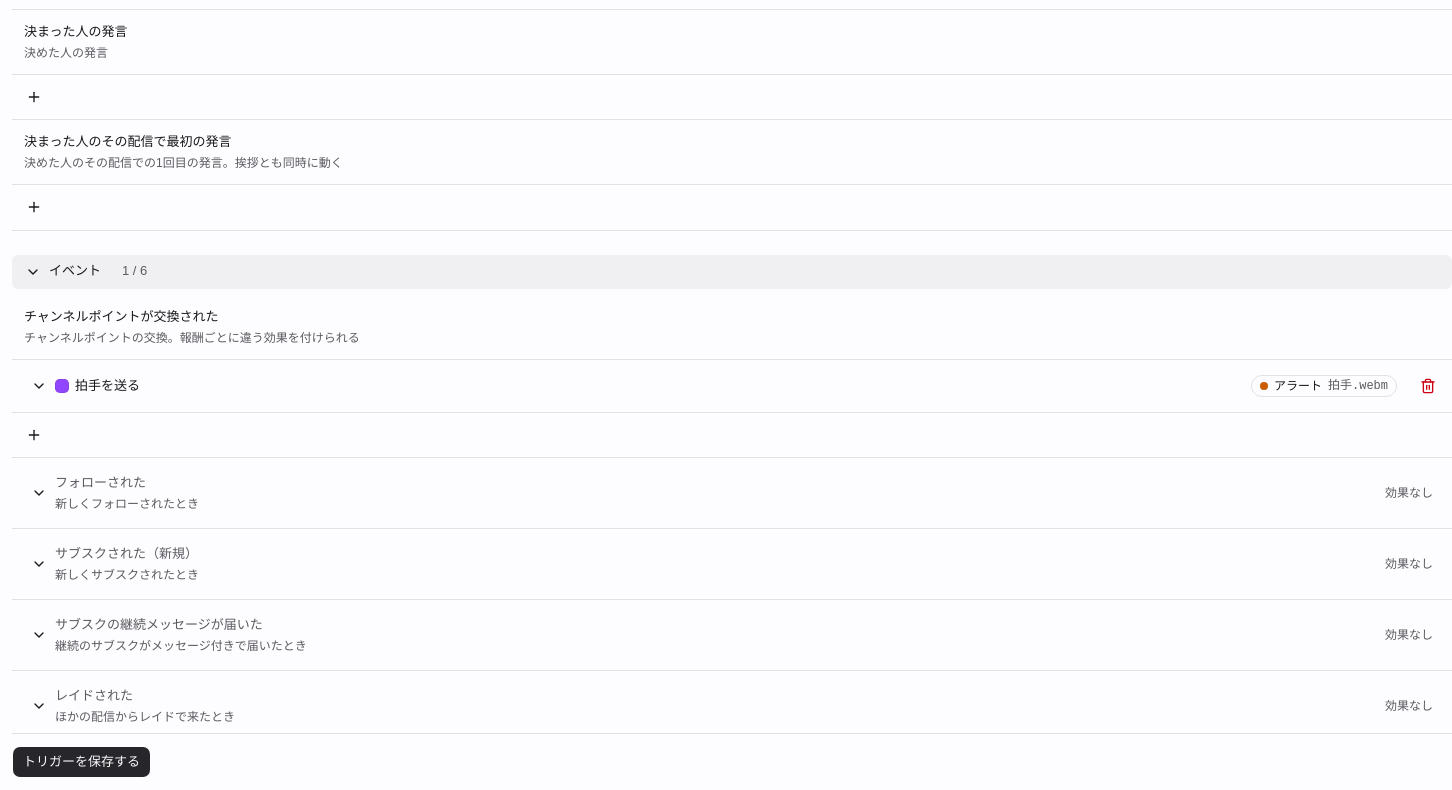
Scenario: 効果の付け外し › アラートを出すを外すと、素材や表示時間の入力欄を隠す
(page scrolled)
Click the button named "チャンネルポイントが交換されたの1番目の設定:".
click(170, 395)  # box [20,368,1408,404]
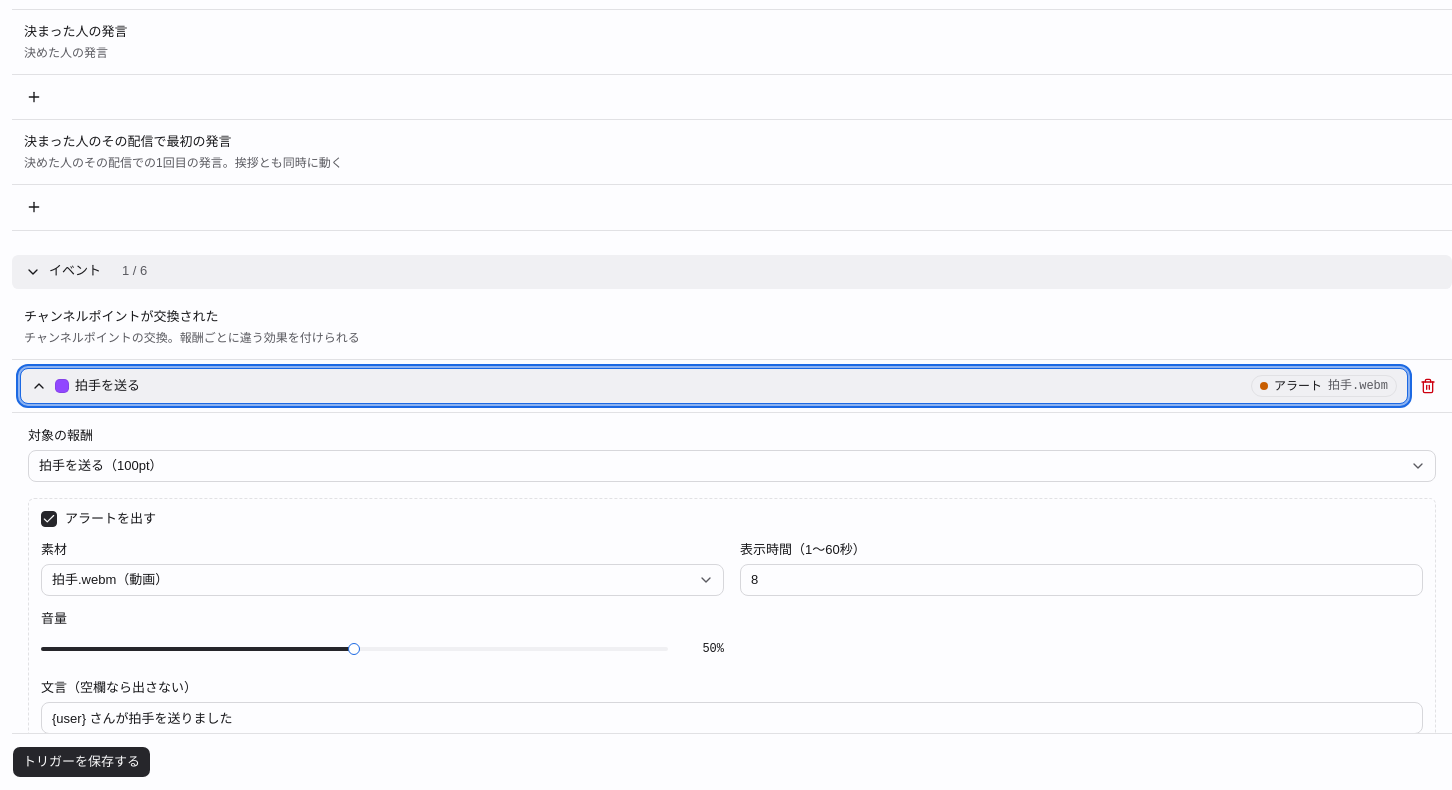
Click the checkbox named "アラートを出す".
click(49, 519)  # box [41,511,57,527]
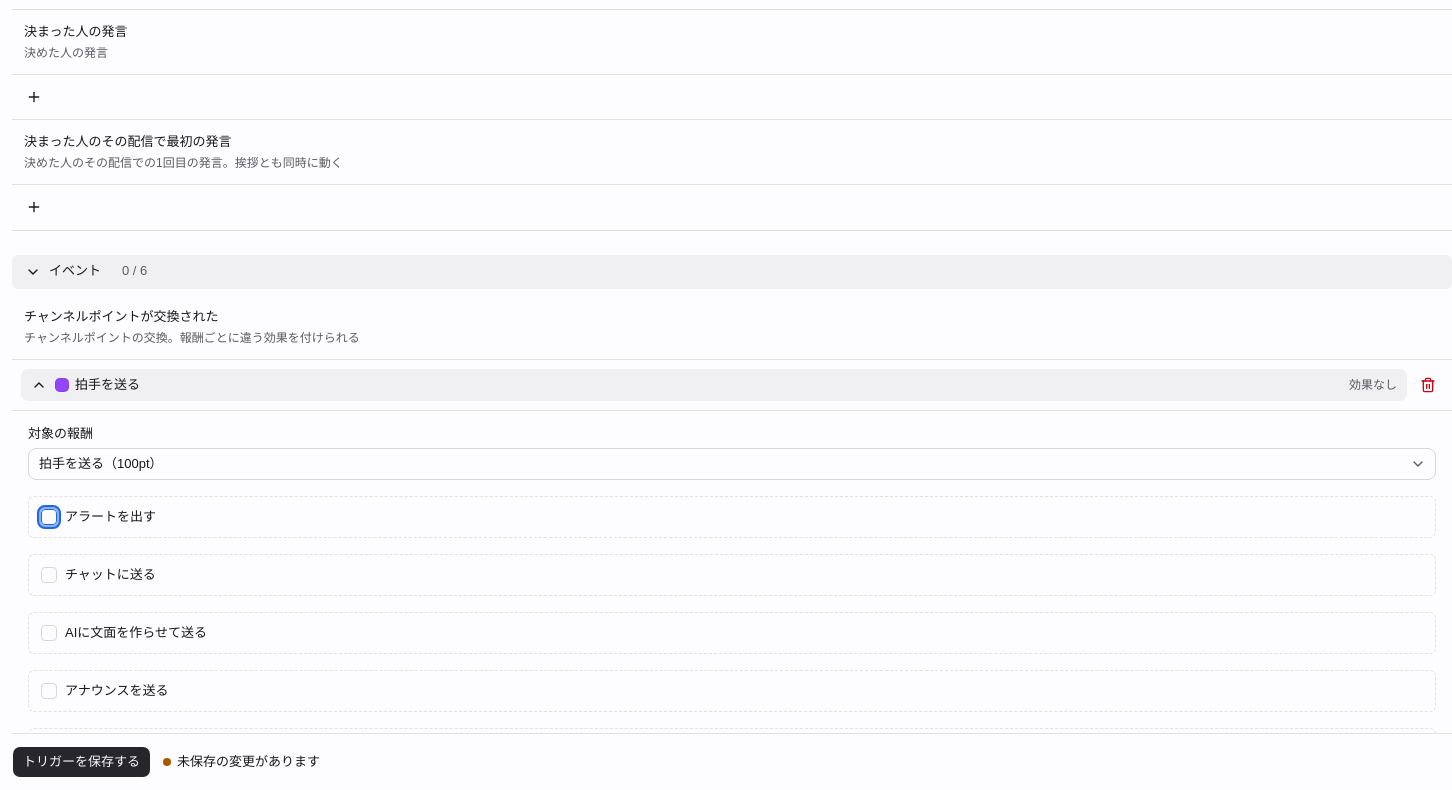
Expected: the label labelled "素材" is gone
Expected: the label labelled "表示時間（1〜60秒）" is gone
